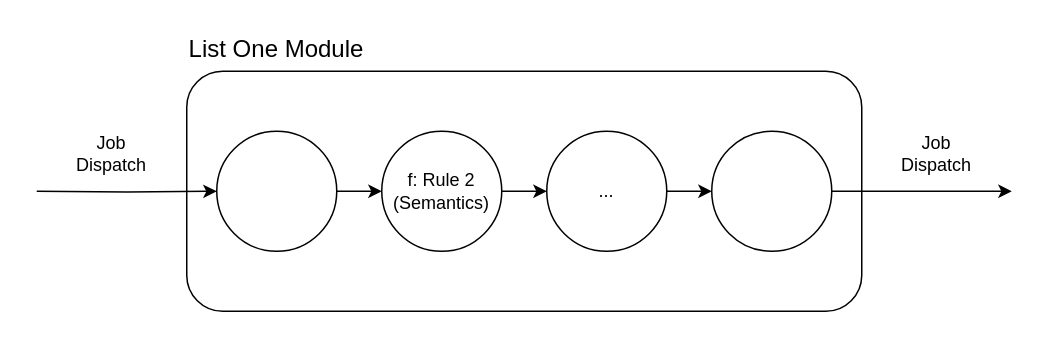
This 1050x338 diagram has some shape labels left out. The box of each missing label's shape, as (x1, y1, x2, y2) in pixels:
f: Rule 1 (RegEx): (215, 130, 337, 251)
f: Rule n (Classifier): (710, 130, 832, 251)
